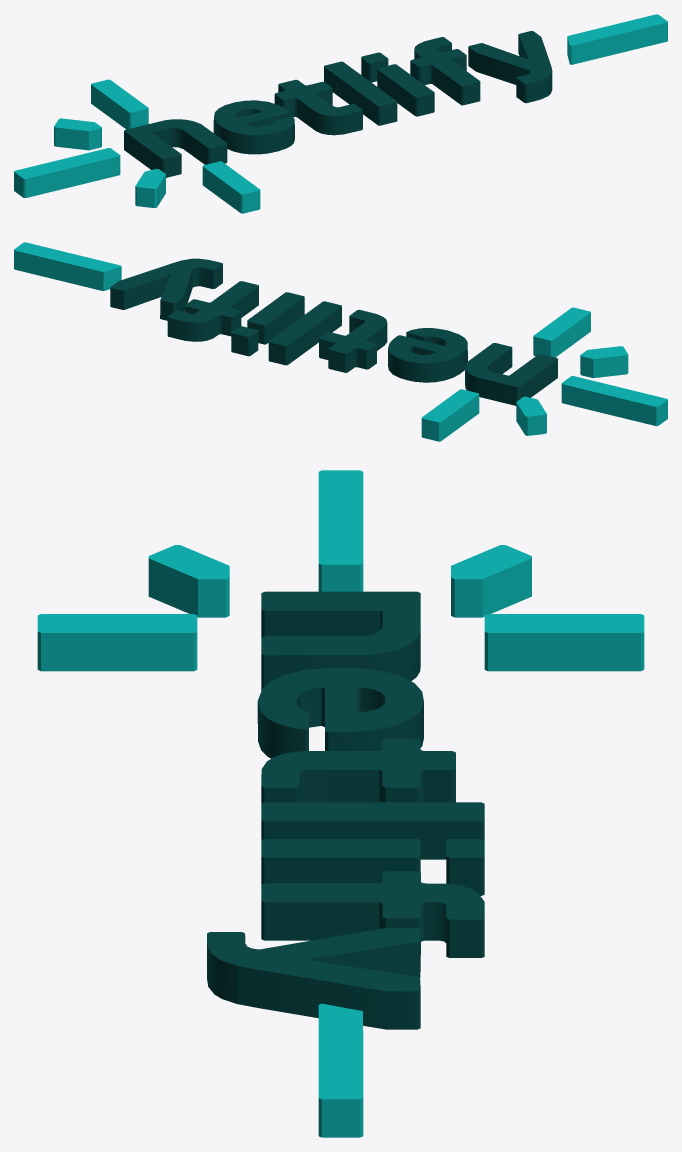
Rendered from IconNetlify.glb.
The picture shows the model from 3 angles, top to bottom: view 1: azimuth 30°, elevation 25°; view 2: azimuth 150°, elevation 25°; view 3: azimuth 270°, elevation 25°; orthographic projection. The views are drawn at different scales.
Parts seen in each view (by area): view 1: IconNetlify; view 2: IconNetlify; view 3: IconNetlify.
Boxes of the visible parts, box(x1,y1,x2,y2) form: IconNetlify: box(14, 14, 667, 213); IconNetlify: box(14, 242, 667, 441); IconNetlify: box(37, 470, 644, 1137).
Size of the model in its own units: 5.56 by 0.1578 by 2.27.
